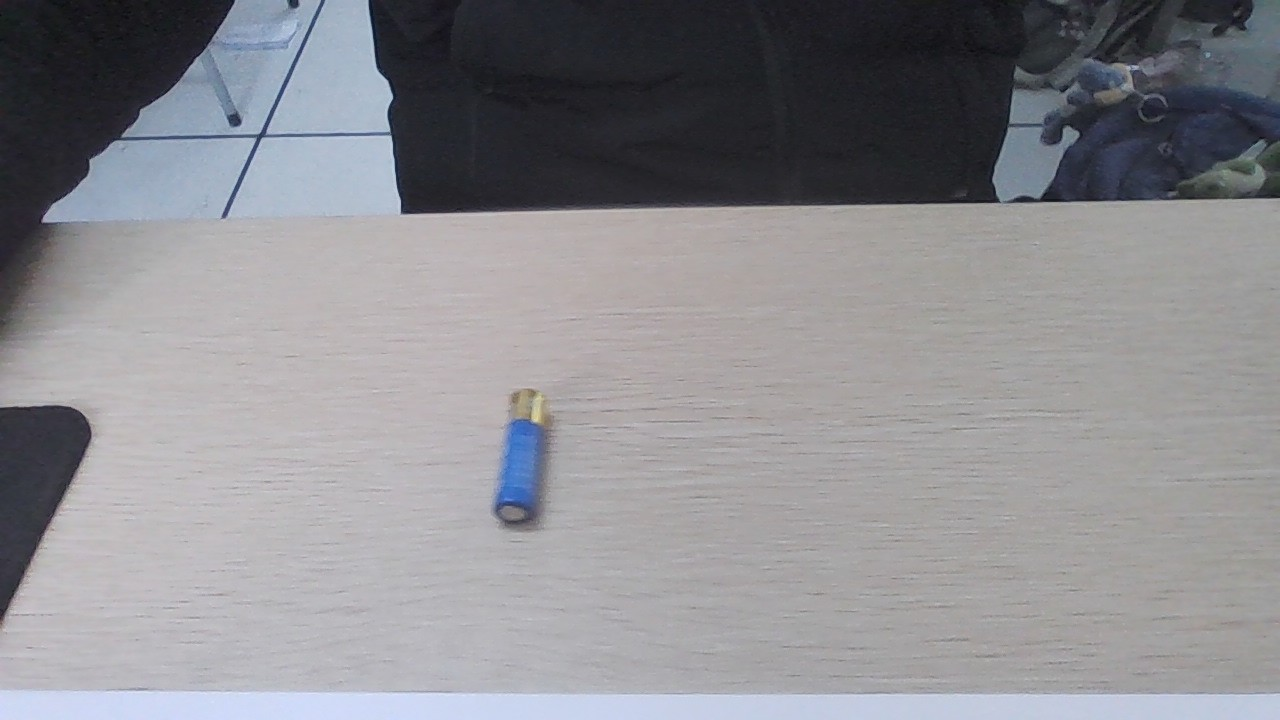YH-battery: (488, 388, 546, 520)
